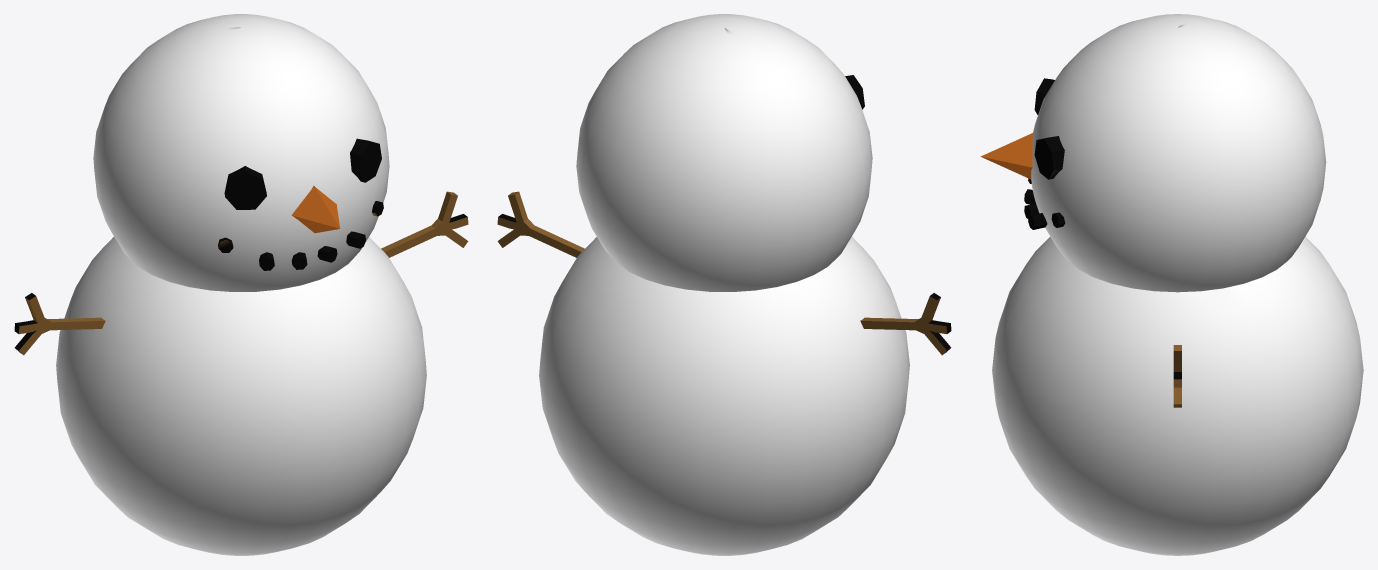
The model's file is snowman.fbx.
3 views of the same model, side by side, from view 1: azimuth 30°, elevation 25°; view 2: azimuth 150°, elevation 25°; view 3: azimuth 270°, elevation 25° (orthographic).
Visible parts, largest first — view 1: Sphere; view 2: Sphere; view 3: Sphere.
Part boxes in pixels (x1=…): Sphere: x1=14, y1=14, x2=468, y2=555; Sphere: x1=497, y1=14, x2=951, y2=555; Sphere: x1=980, y1=14, x2=1363, y2=555.
Size of the model in its own units: 9.27 by 10.07 by 6.84.
